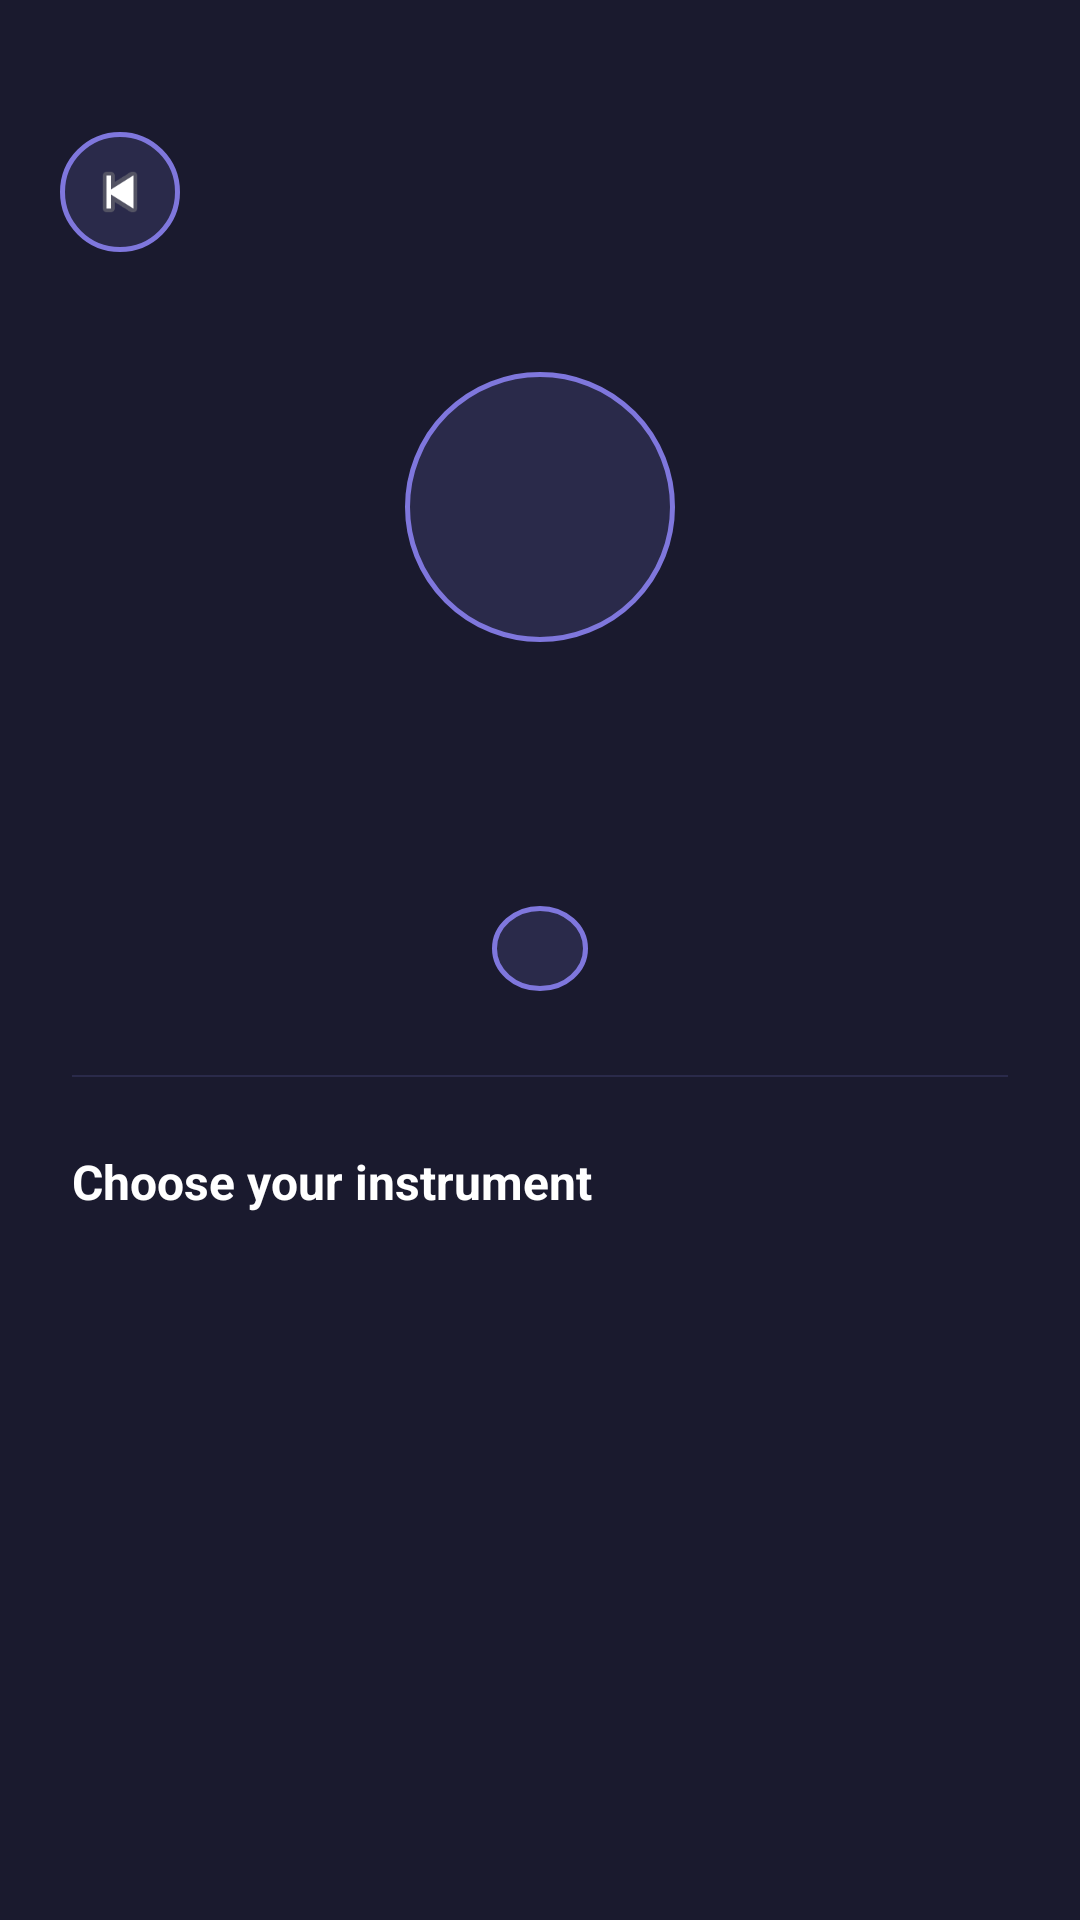

Where icons sit on this 1080×1920 app screen, as (x1, y1, x2, y2):
previous: (60, 132, 180, 252)
